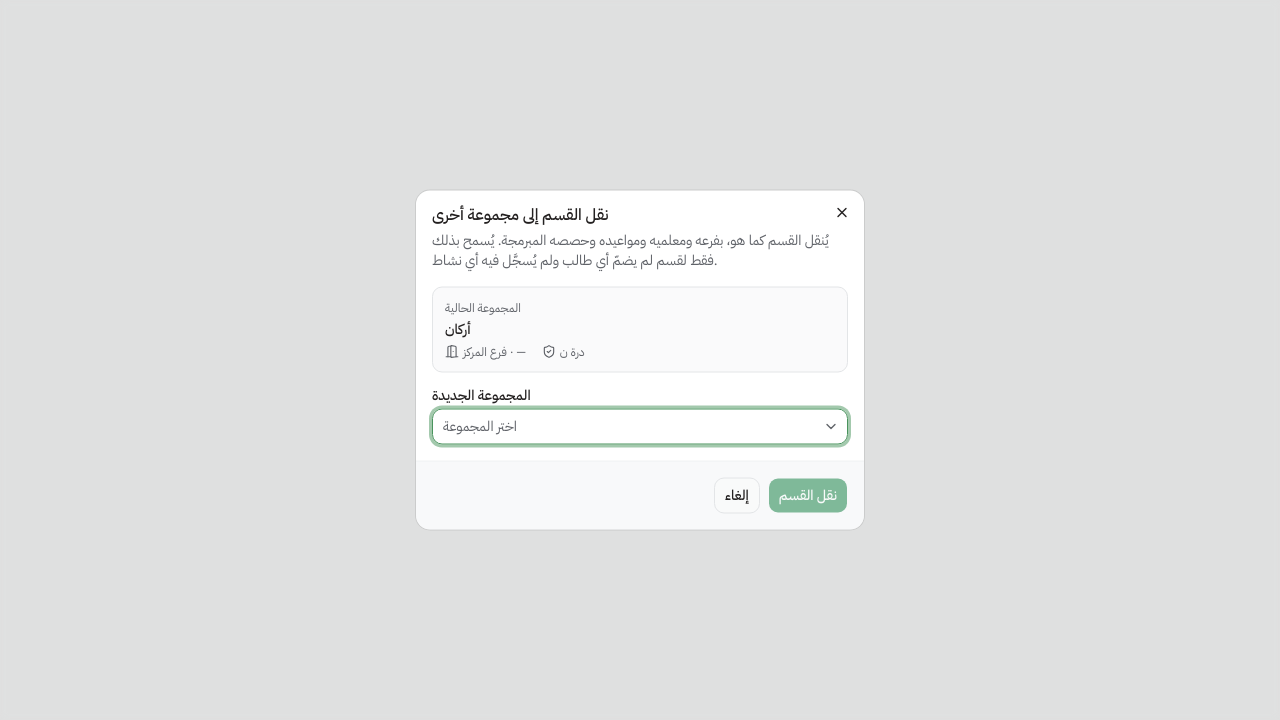
Test: «نقل القسم إلى مجموعة أخرى» › a destination without a fee for the current year says so
Click the dropdown.
click(480, 426)  # box [432,408,848,444]
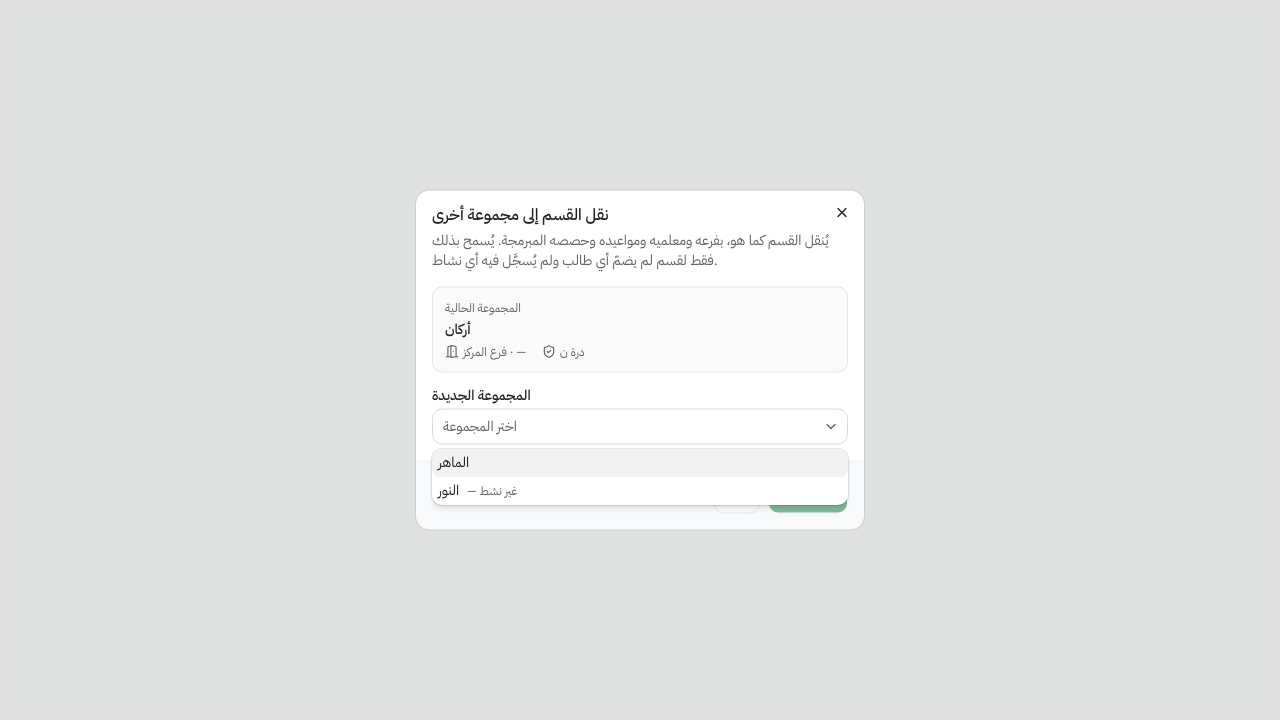
Click the option "الماهر".
click(454, 462)  # box [432,449,848,477]
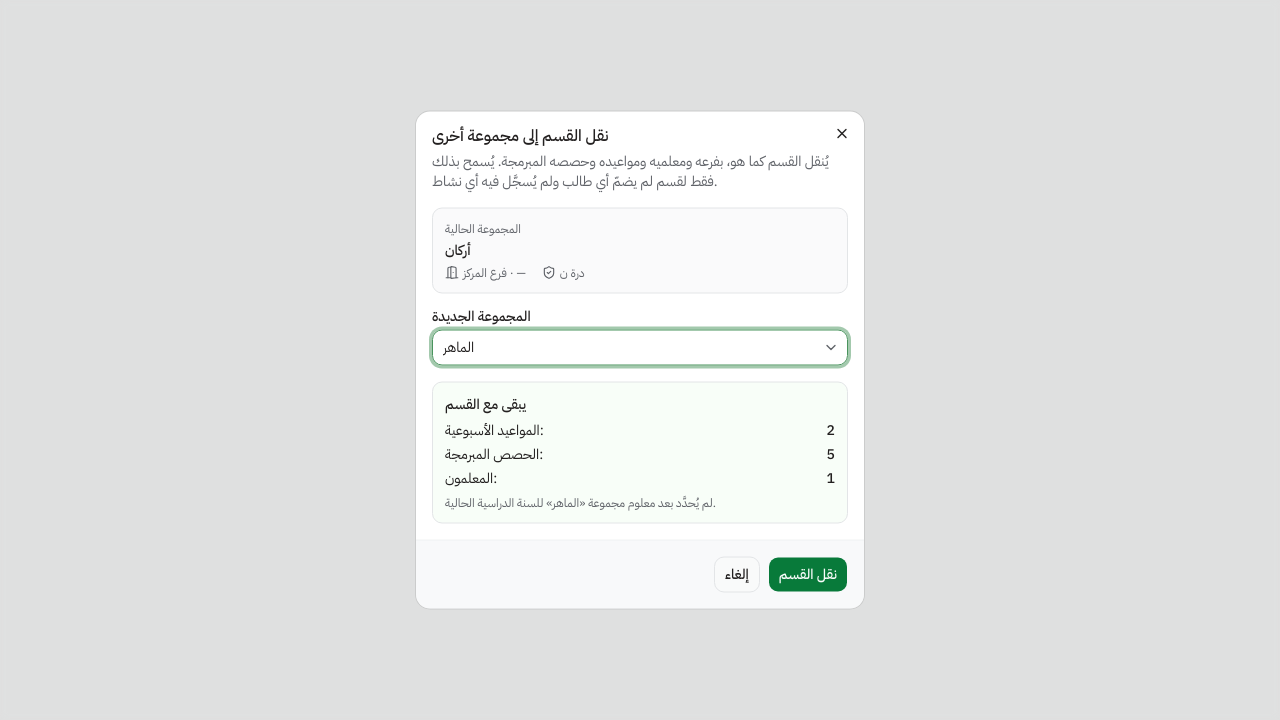
Expected: the text "لم يُحدَّد بعد معلوم مجموعة «الماهر» للسنة الدراسية الحالية." is shown, [445,494,716,512]
